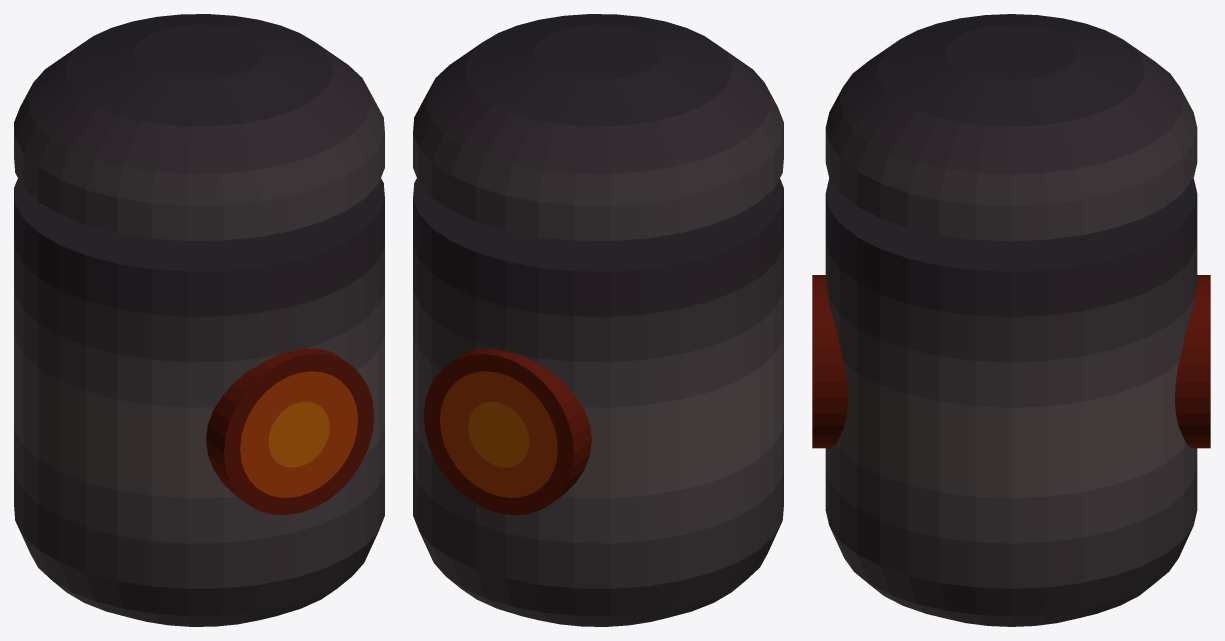
Rendered from placeholder.gltf.
3 views of the same model, side by side, from view 1: azimuth 30°, elevation 25°; view 2: azimuth 150°, elevation 25°; view 3: azimuth 270°, elevation 25° (orthographic).
Parts seen in each view (by area): view 1: Cylinder.001; view 2: Cylinder.001; view 3: Cylinder.001.
Part boxes in pixels (x1,y1,x2,y2): Cylinder.001: (14, 14, 384, 626); Cylinder.001: (413, 14, 783, 626); Cylinder.001: (812, 14, 1210, 626).
Bounding box in the file's own units: 2 × 3.21 × 2.14.
